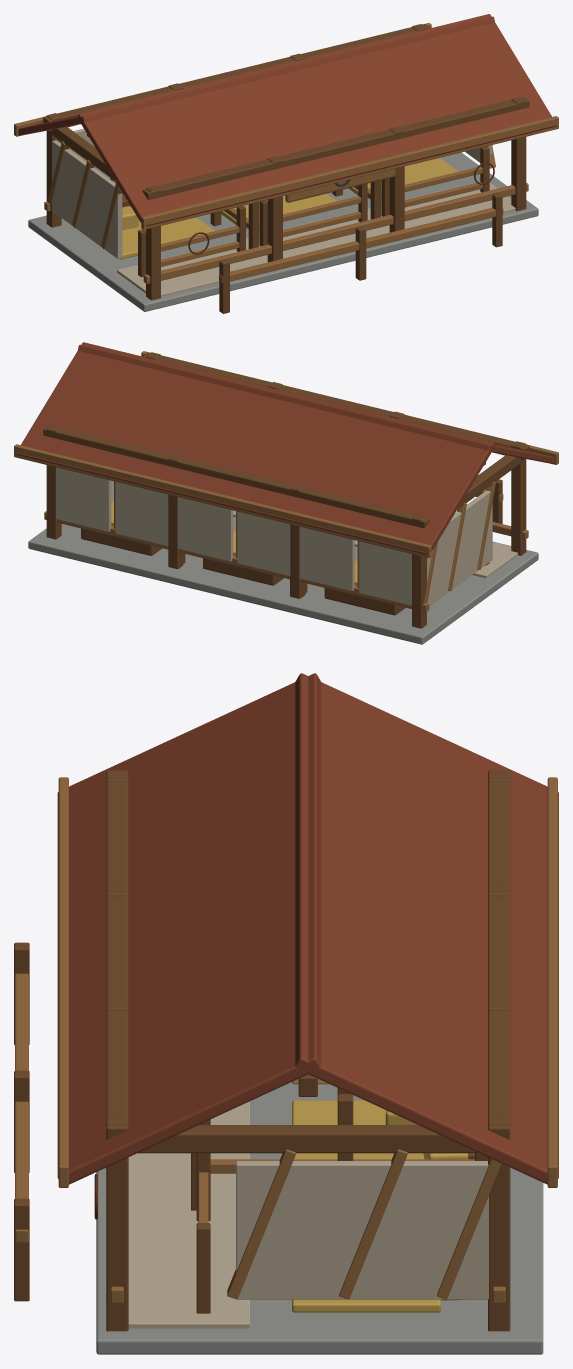
File: riverwatch_stable.glb
The picture shows the model from 3 angles, top to bottom: view 1: azimuth 30°, elevation 25°; view 2: azimuth 150°, elevation 25°; view 3: azimuth 270°, elevation 25°; orthographic projection. The views are drawn at different scales.
Visible parts, largest first — view 1: StableRoofFront, StableStoneSill, StableRoofFascia, StablePackedAisle, StableSideWall, StableLongWallPlate, StableLowerWallRail, StableRoofRear, StableHitchRail, StableLongWallPlate.001, StableHayBed, StablePost.006 (+22 smaller); view 2: StableRoofRear, StableStoneSill, StableRoofFascia.001, StableLongWallPlate.001, StableSideWall, StableRoofFront, StableBackBoard.003, StableBackBoard.001, StableBackBoard.005, StableBackBoard.002, StableBackBoard.004, StableBackBoard (+15 smaller); view 3: StableRoofFront, StableRoofRear, StableSideWall.001, StableStoneSill, StablePackedAisle, StableEndTie.001, StableLongWallPlate.001, StableLongWallPlate, StableRoofFascia, StableRoofFascia.001, StablePost.006, StablePost.007 (+8 smaller).
Part boxes in pixels (x1,y1,x2,y2): StableRoofFront: [78, 14, 556, 226]; StableStoneSill: [28, 152, 538, 311]; StableRoofFascia: [141, 116, 558, 229]; StablePackedAisle: [117, 181, 515, 296]; StableSideWall: [52, 140, 122, 258]; StableLongWallPlate: [142, 97, 529, 200]; StableLowerWallRail: [143, 183, 528, 284]; StableRoofRear: [18, 16, 494, 135]; StableHitchRail: [219, 207, 503, 283]; StableLongWallPlate.001: [43, 24, 429, 131]; StableHayBed: [120, 217, 214, 259]; StablePost.006: [511, 96, 526, 211]; StableRoofRear: [16, 342, 494, 554]; StableStoneSill: [28, 481, 538, 644]; StableRoofFascia.001: [14, 444, 431, 557]; StableLongWallPlate.001: [43, 425, 430, 528]; StableSideWall: [427, 490, 492, 605]; StableRoofFront: [78, 344, 554, 464]; StableBackBoard.003: [177, 497, 232, 561]; StableBackBoard.001: [299, 527, 354, 591]; StableBackBoard.005: [56, 467, 111, 531]; StableBackBoard.002: [237, 511, 290, 575]; StableBackBoard.004: [115, 482, 168, 546]; StableBackBoard: [359, 541, 411, 605]; StableRoofFront: [57, 673, 321, 1184]; StableRoofRear: [295, 673, 558, 1184]; StableSideWall.001: [236, 1161, 488, 1299]; StableStoneSill: [96, 1082, 543, 1354]; StablePackedAisle: [128, 1101, 249, 1328]; StableEndTie.001: [137, 1125, 478, 1153]; StableLongWallPlate.001: [488, 770, 510, 1139]; StableLongWallPlate: [106, 770, 128, 1139]; StableRoofFascia: [58, 777, 68, 1187]; StableRoofFascia.001: [547, 777, 557, 1187]; StablePost.006: [106, 1114, 128, 1331]; StablePost.007: [488, 1114, 510, 1331].
Size of the model in its own units: 19.8 by 7.23 by 11.7.
